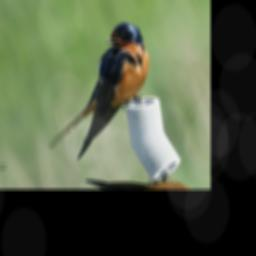Swallow: (19, 14, 172, 168)
